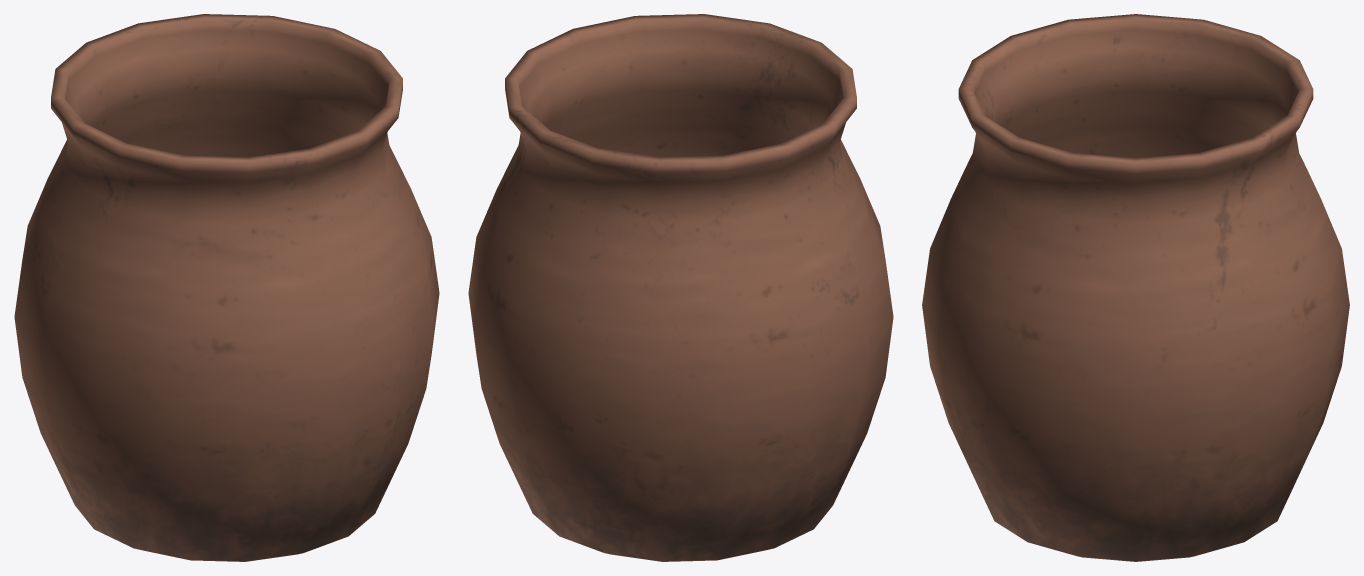
File: clay_pot_large.glb
3 views of the same model, side by side, from view 1: azimuth 30°, elevation 25°; view 2: azimuth 150°, elevation 25°; view 3: azimuth 270°, elevation 25° (orthographic).
Visible parts, largest first — view 1: Pottery3_Pottery3_0; view 2: Pottery3_Pottery3_0; view 3: Pottery3_Pottery3_0.
Boxes of the visible parts, x1,y1,x2,y2 form: Pottery3_Pottery3_0: [14, 14, 439, 561]; Pottery3_Pottery3_0: [468, 14, 893, 561]; Pottery3_Pottery3_0: [922, 14, 1349, 561].
Bounding box in the file's own units: 0.9129 × 0.9748 × 0.9129.
1 material, 1 textured.
